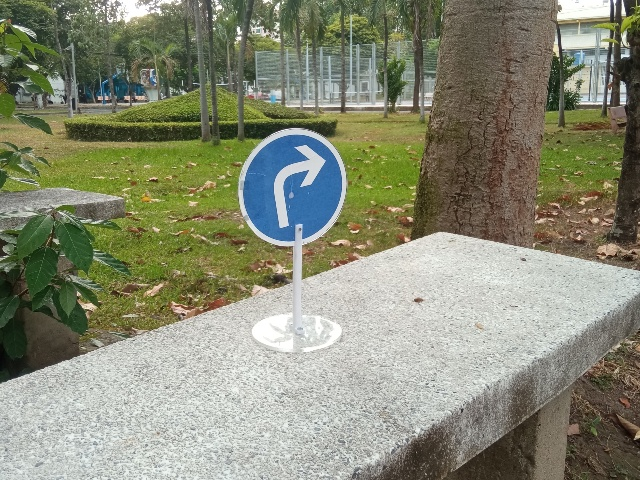Right_Sign: (236, 128, 348, 248)
